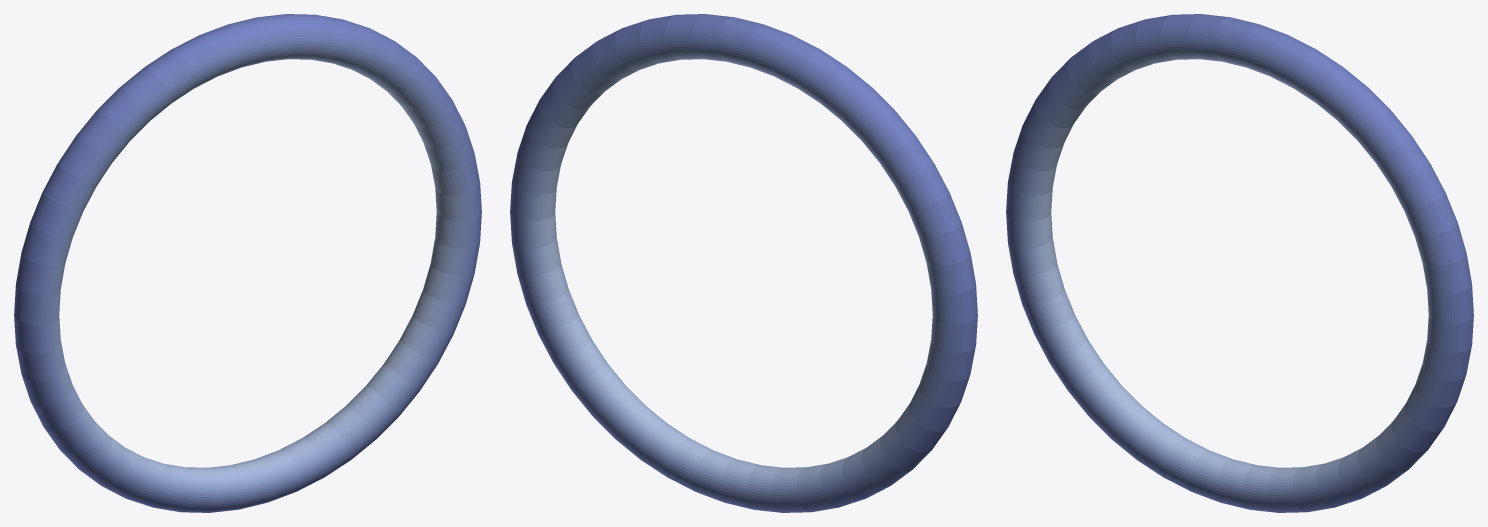
3 views of the same model, side by side, from view 1: azimuth 30°, elevation 25°; view 2: azimuth 150°, elevation 25°; view 3: azimuth 330°, elevation 25° (orthographic).
Parts seen in each view (by area): view 1: world; view 2: world; view 3: world.
Part boxes in pixels (x1,y1,x2,y2): world: (14, 14, 481, 512); world: (510, 14, 977, 512); world: (1006, 14, 1473, 512).
Bounding box in the file's own units: 29.87 × 29.81 × 2.53.
